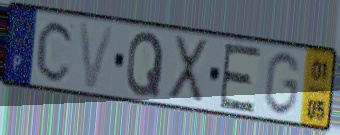C: (34, 18, 77, 84)
E: (217, 42, 264, 115)
G: (261, 50, 303, 119)
Q: (124, 30, 166, 99)
V: (77, 20, 118, 92)
X: (166, 33, 210, 108)
